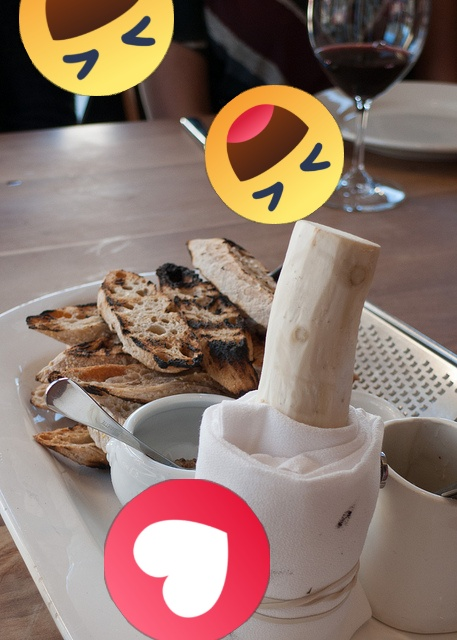haha: (205, 85, 344, 224), (19, 0, 174, 96)
love: (104, 479, 270, 640)
